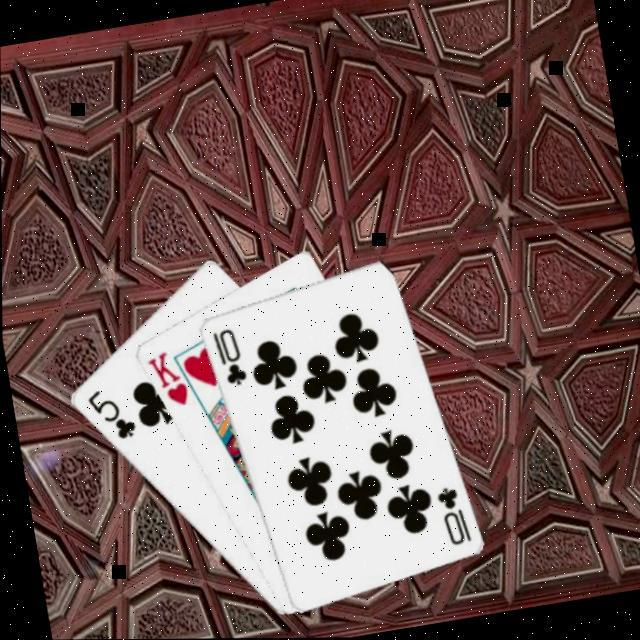10C: (429, 483, 472, 552), (206, 326, 248, 393)
5C: (80, 384, 138, 448)
KH: (140, 348, 190, 416)
